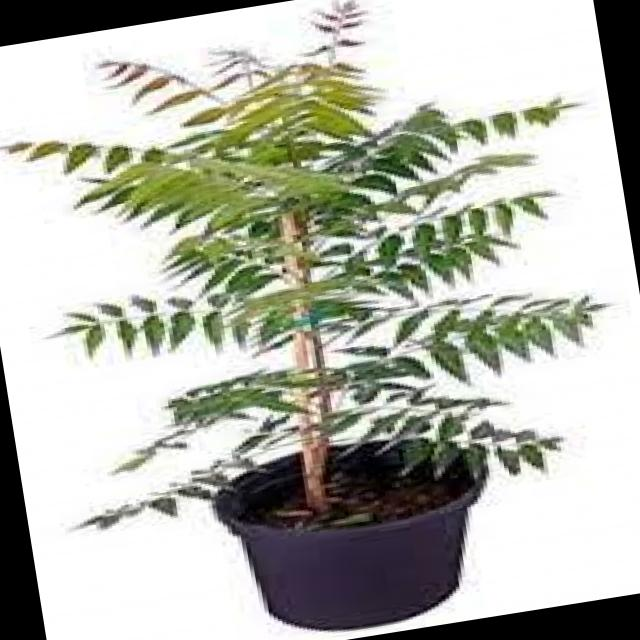Medicinal-Neem: (0, 0, 636, 549)
